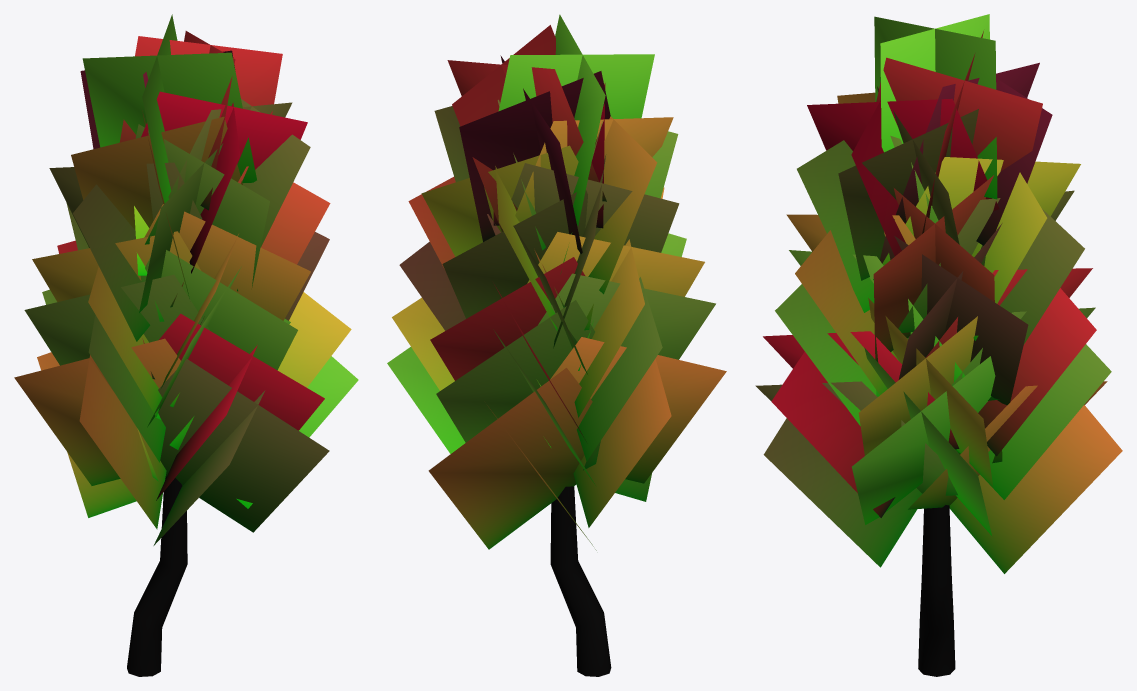
The model's file is Tree_10.fbx.
3 renders of one model, left to right at view 1: azimuth 30°, elevation 25°; view 2: azimuth 150°, elevation 25°; view 3: azimuth 270°, elevation 25°, orthographic. The views are drawn at different scales.
Parts seen in each view (by area): view 1: Tree_10; view 2: Tree_10; view 3: Tree_10.
Boxes of the visible parts, bbox=[...] form: Tree_10: bbox=[14, 14, 358, 676]; Tree_10: bbox=[387, 14, 726, 676]; Tree_10: bbox=[755, 14, 1122, 676].
Bounding box in the file's own units: 658 × 1341 × 680.
